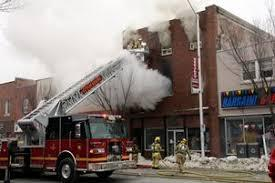smoke: (25, 15, 116, 59)
